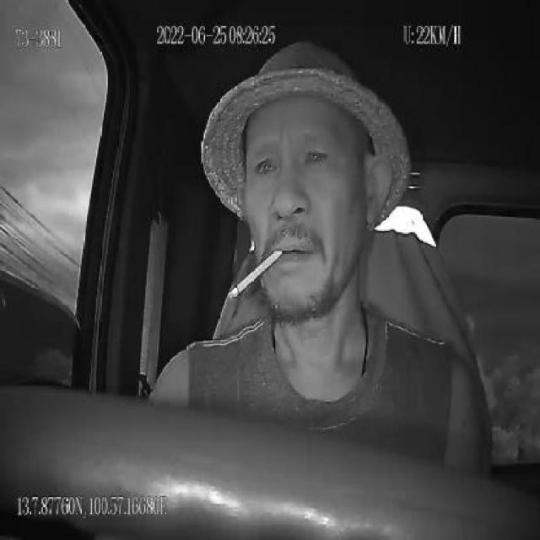smoking: (227, 246, 283, 302)
